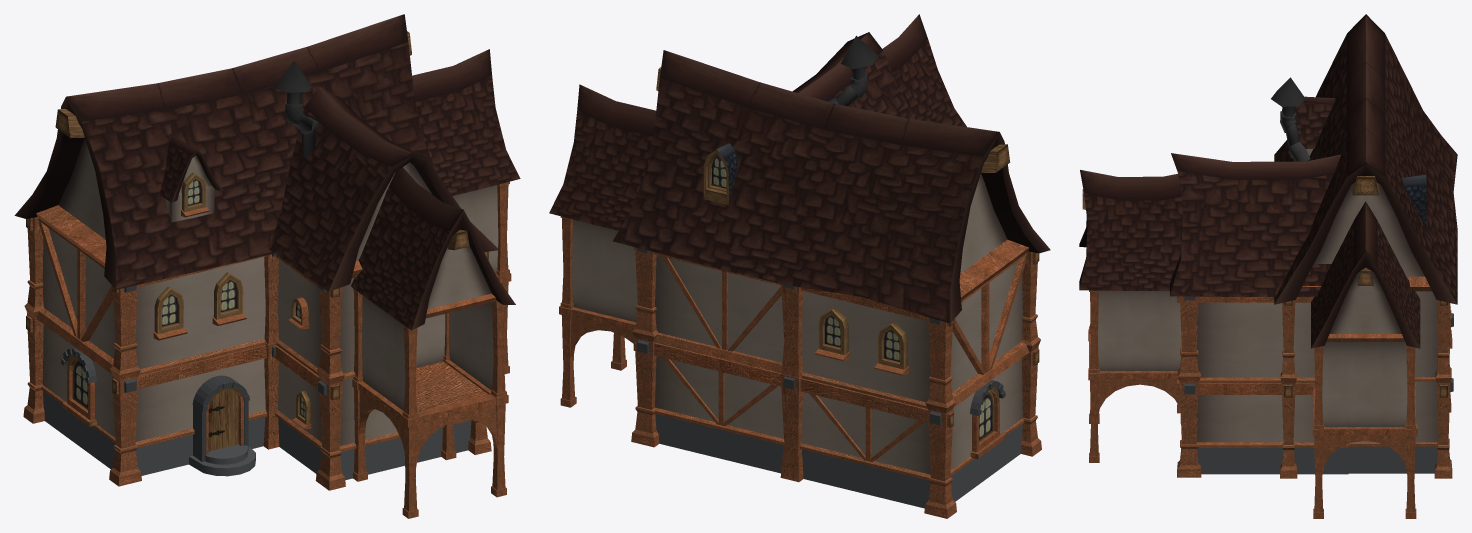
The model's file is fanasty_mod_building03.fbx.
3 renders of one model, left to right at view 1: azimuth 30°, elevation 25°; view 2: azimuth 150°, elevation 25°; view 3: azimuth 270°, elevation 25°, orthographic. The views are drawn at different scales.
Visible parts, largest first — view 1: polySurface8655; view 2: polySurface8655; view 3: polySurface8655.
Part boxes in pixels (x1=…): polySurface8655: x1=14, y1=14, x2=520, y2=518; polySurface8655: x1=549, y1=14, x2=1050, y2=518; polySurface8655: x1=1079, y1=14, x2=1457, y2=518.
Bounding box in the file's own units: 15.7 × 13.25 × 13.32.
